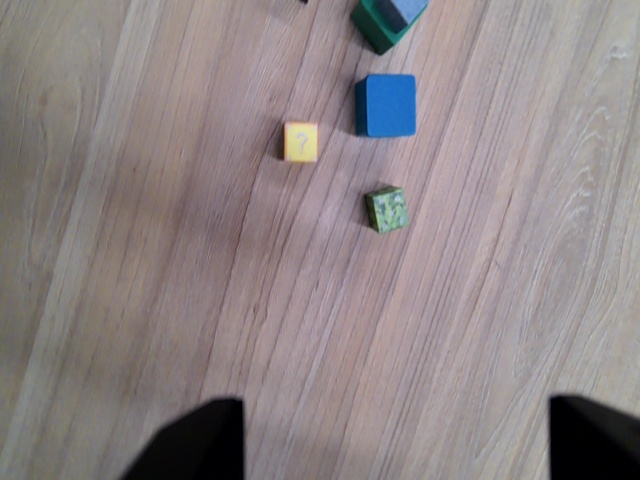grass: (366, 180, 411, 237)
lucky: (283, 118, 321, 165)
stone: (377, 2, 433, 23)
